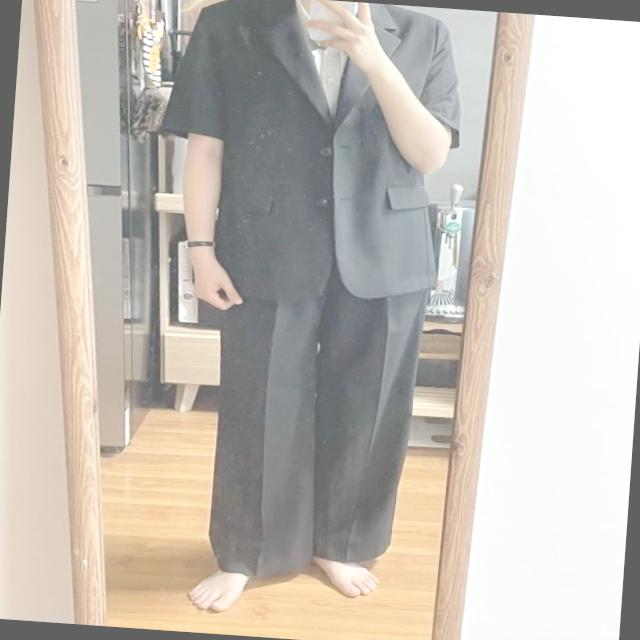blazer: (147, 0, 467, 310)
slacks: (202, 215, 430, 590)
